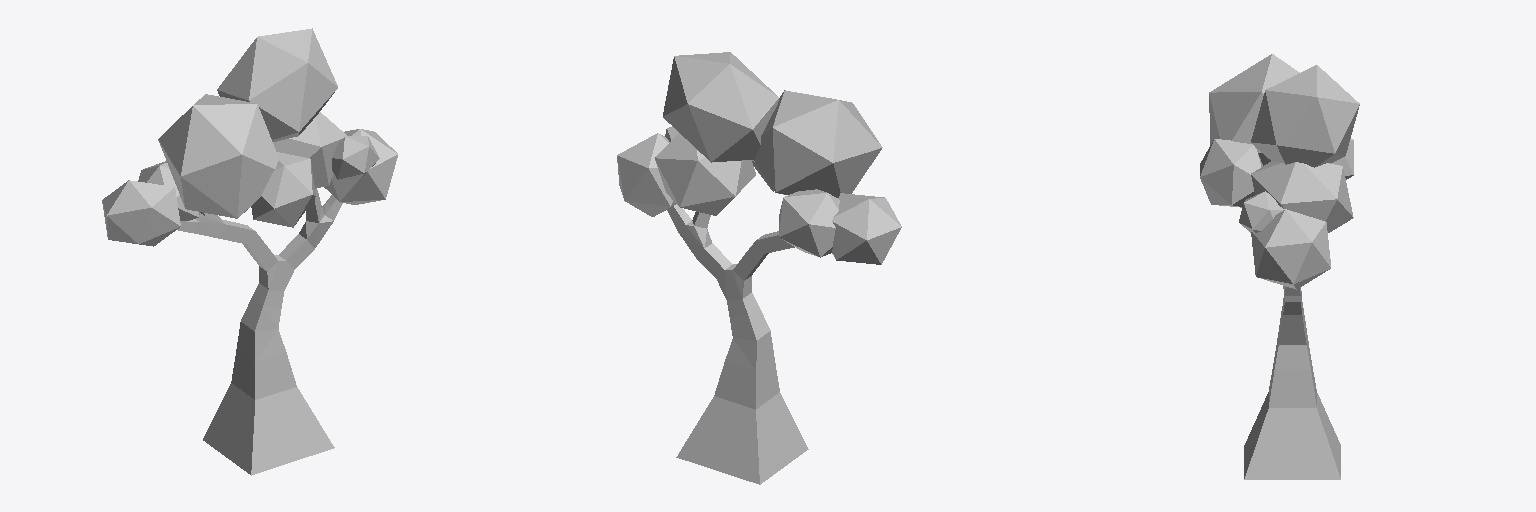
The model's file is tree1.obj.
The picture shows the model from 3 angles: view 1: azimuth 30°, elevation 25°; view 2: azimuth 150°, elevation 25°; view 3: azimuth 270°, elevation 25°; orthographic projection.
Visible parts, largest first — view 1: Cube, Icosphere.002_Icosphere, Icosphere.006_Icosphere, Icosphere.003_Icosphere, Icosphere.005_Icosphere, Icosphere, Icosphere.001_Icosphere, Icosphere.004_Icosphere, Icosphere.007_Icosphere; view 2: Cube, Icosphere.002_Icosphere, Icosphere.006_Icosphere, Icosphere.001_Icosphere, Icosphere.003_Icosphere, Icosphere.007_Icosphere, Icosphere; view 3: Cube, Icosphere.006_Icosphere, Icosphere, Icosphere.001_Icosphere, Icosphere.002_Icosphere, Icosphere.005_Icosphere, Icosphere.004_Icosphere.
Part boxes in pixels (x1,y1,x2,y2): Cube: (177, 189, 342, 475); Icosphere.002_Icosphere: (158, 94, 278, 218); Icosphere.006_Icosphere: (217, 28, 337, 141); Icosphere.003_Icosphere: (102, 180, 180, 246); Icosphere.005_Icosphere: (251, 152, 315, 227); Icosphere: (324, 129, 397, 204); Icosphere.001_Icosphere: (273, 112, 346, 188); Icosphere.004_Icosphere: (332, 136, 379, 179); Icosphere.007_Icosphere: (138, 161, 199, 220); Cube: (667, 204, 808, 484); Icosphere.002_Icosphere: (754, 90, 882, 197); Icosphere.006_Icosphere: (663, 52, 778, 162); Icosphere.001_Icosphere: (655, 133, 755, 215); Icosphere.003_Icosphere: (832, 193, 901, 264); Icosphere.007_Icosphere: (779, 189, 839, 257); Icosphere: (617, 133, 675, 216); Cube: (1244, 286, 1340, 479); Icosphere.006_Icosphere: (1251, 65, 1359, 167); Icosphere: (1251, 209, 1330, 289); Icosphere.001_Icosphere: (1251, 161, 1353, 232); Icosphere.002_Icosphere: (1209, 54, 1299, 165); Icosphere.005_Icosphere: (1200, 139, 1262, 207); Icosphere.004_Icosphere: (1239, 191, 1284, 232).
Bounding box in the file's own units: 4.16 × 5.63 × 2.04.